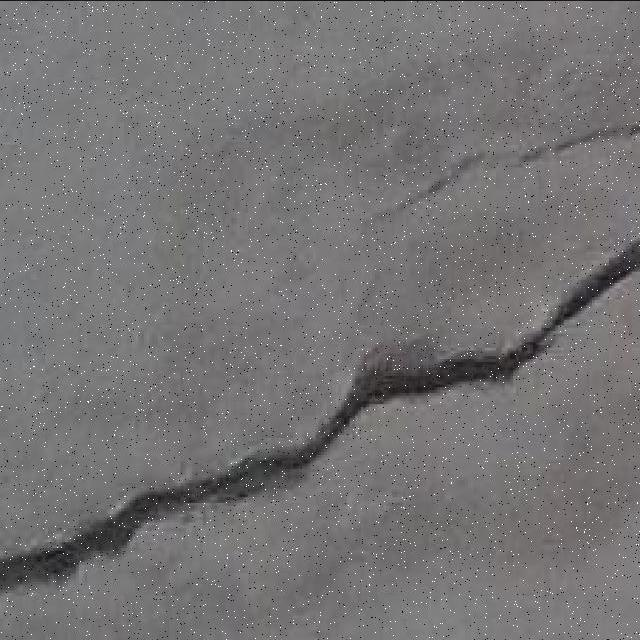crack: (1, 236, 638, 595)
